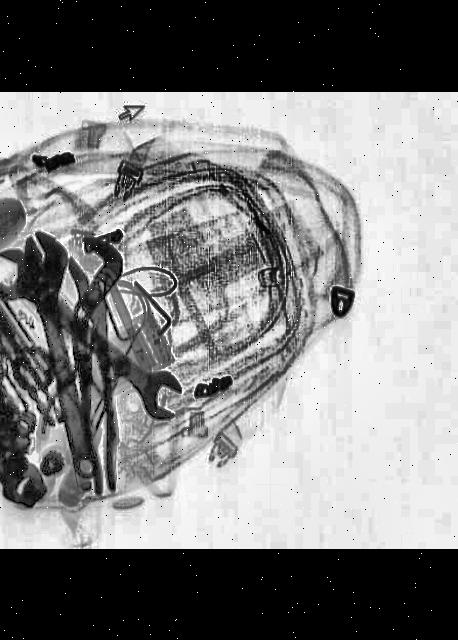Wrench: (0, 241, 204, 426), (7, 224, 121, 482)
